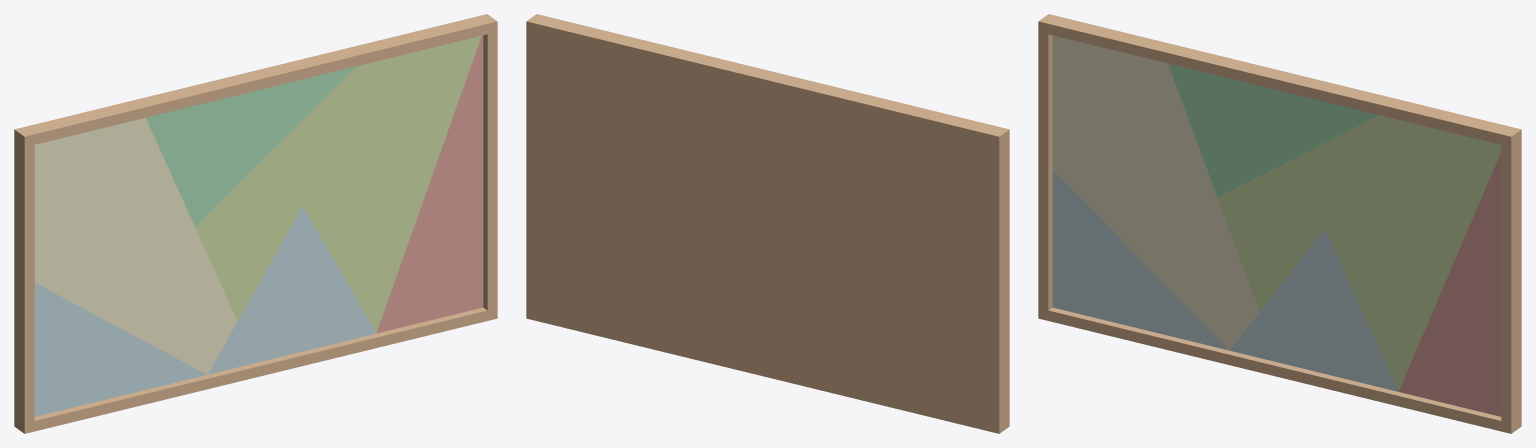
Rendered from picture.fbx.
3 renders of one model, left to right at view 1: azimuth 30°, elevation 25°; view 2: azimuth 150°, elevation 25°; view 3: azimuth 330°, elevation 25°, orthographic.
Visible parts, largest first — view 1: Cube; view 2: Cube; view 3: Cube.
Boxes of the visible parts, <box> form: Cube: <box>14,14,497,433</box>; Cube: <box>526,14,1009,433</box>; Cube: <box>1038,14,1521,433</box>.
Size of the model in its own units: 42.49 by 25.51 by 1.58.
